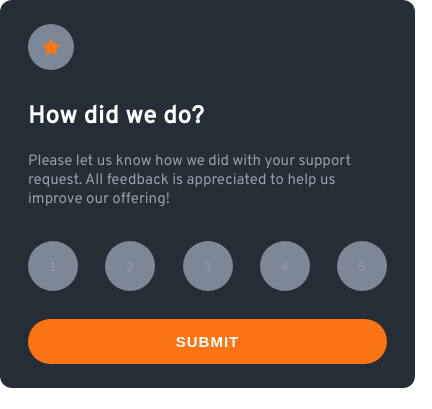
Rating Component › Should allow a user to choose and submit a rating
Expected: the heading "How did we do?" is shown, [28, 102, 205, 132]
Expected: the text "Please let us know" is shown, [28, 152, 351, 209]
Click the button "1".
click(53, 266)  # box [28, 241, 78, 291]
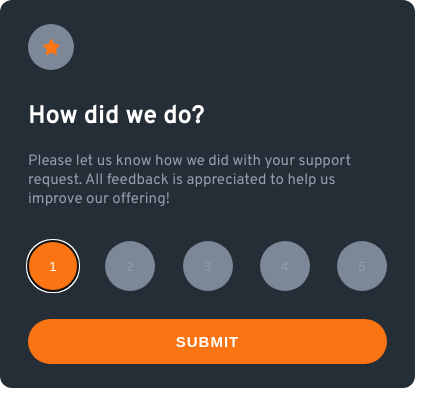
Click the button "Submit".
click(208, 342)  # box [28, 319, 387, 364]
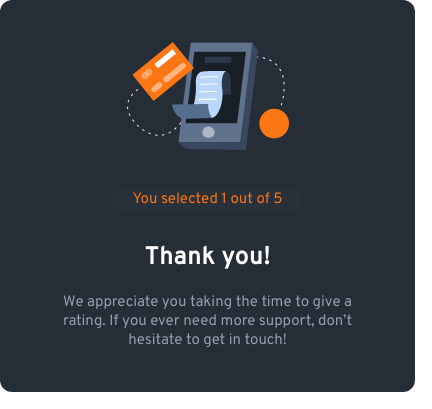
Now the heading "Thank you!" is shown, box [144, 243, 270, 273]
Now the text "You selected 1 out of 5" is shown, box [112, 188, 302, 211]
